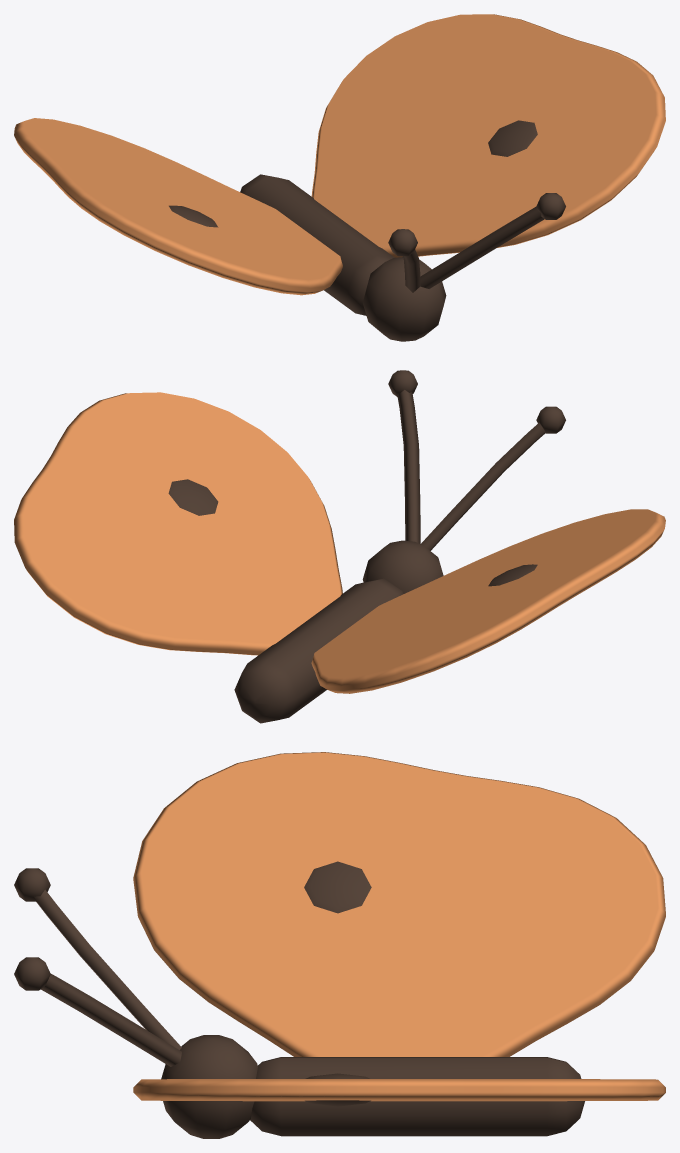
The model's file is pet_butterfly_orange.glb.
3 renders of one model, top to bottom at view 1: azimuth 30°, elevation 25°; view 2: azimuth 150°, elevation 25°; view 3: azimuth 270°, elevation 25°, orthographic. The views are drawn at different scales.
Parts seen in each view (by area): view 1: pet_butterfly_orange_WingR_mesh, pet_butterfly_orange_WingL_mesh, pet_butterfly_orange_mesh; view 2: pet_butterfly_orange_WingR_mesh, pet_butterfly_orange_WingL_mesh, pet_butterfly_orange_mesh; view 3: pet_butterfly_orange_WingL_mesh, pet_butterfly_orange_mesh, pet_butterfly_orange_WingR_mesh.
Boxes of the visible parts, x1=… form: pet_butterfly_orange_WingR_mesh: x1=311, y1=14, x2=665, y2=257; pet_butterfly_orange_WingL_mesh: x1=14, y1=118, x2=342, y2=295; pet_butterfly_orange_mesh: x1=240, y1=174, x2=565, y2=341; pet_butterfly_orange_WingR_mesh: x1=14, y1=392, x2=342, y2=655; pet_butterfly_orange_WingL_mesh: x1=311, y1=509, x2=665, y2=693; pet_butterfly_orange_mesh: x1=234, y1=370, x2=565, y2=723; pet_butterfly_orange_WingL_mesh: x1=133, y1=752, x2=665, y2=1056; pet_butterfly_orange_mesh: x1=14, y1=868, x2=584, y2=1138; pet_butterfly_orange_WingR_mesh: x1=133, y1=1073, x2=665, y2=1106.
Bounding box in the file's own units: 0.1966 × 0.0605 × 0.161.
